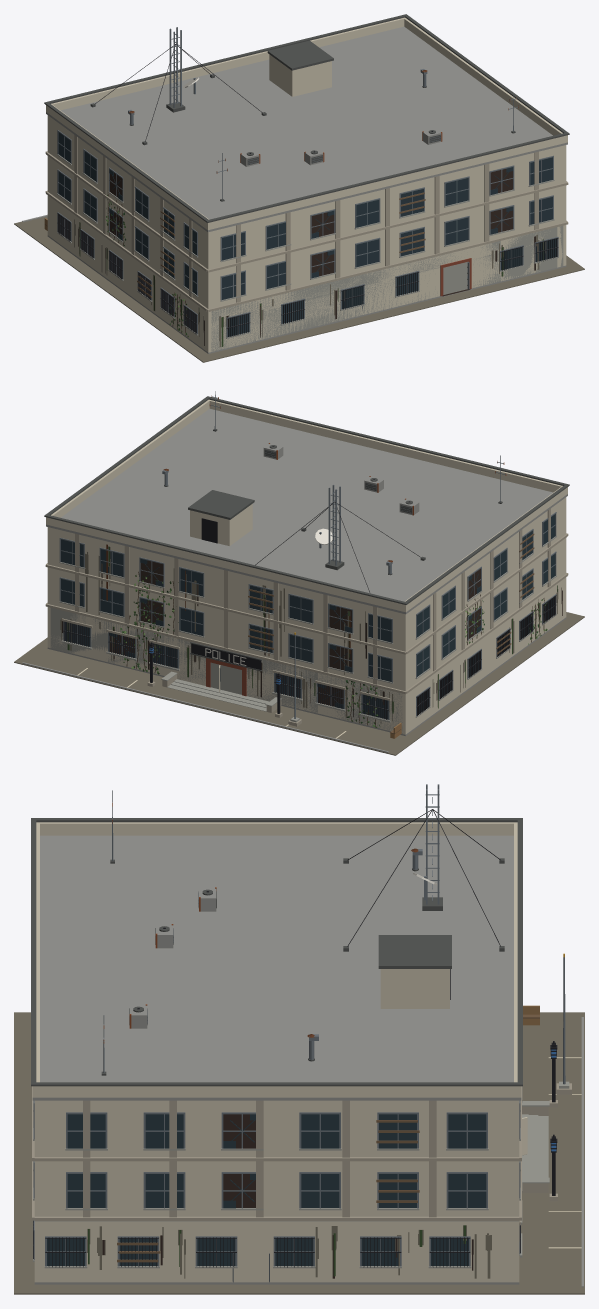
File: metro_police.glb
3 renders of one model, top to bottom at view 1: azimuth 30°, elevation 25°; view 2: azimuth 150°, elevation 25°; view 3: azimuth 270°, elevation 25°, orthographic. The views are drawn at different scales.
Visible parts, largest first — view 1: metro_police; view 2: metro_police; view 3: metro_police.
Part boxes in pixels (x1,y1,x2,y2): metro_police: (14,14,584,362); metro_police: (14,391,584,755); metro_police: (14,784,584,1294).
Size of what is drawn, in the model's own units: 38.4 by 19.66 by 33.
3 materials, 3 textured.
